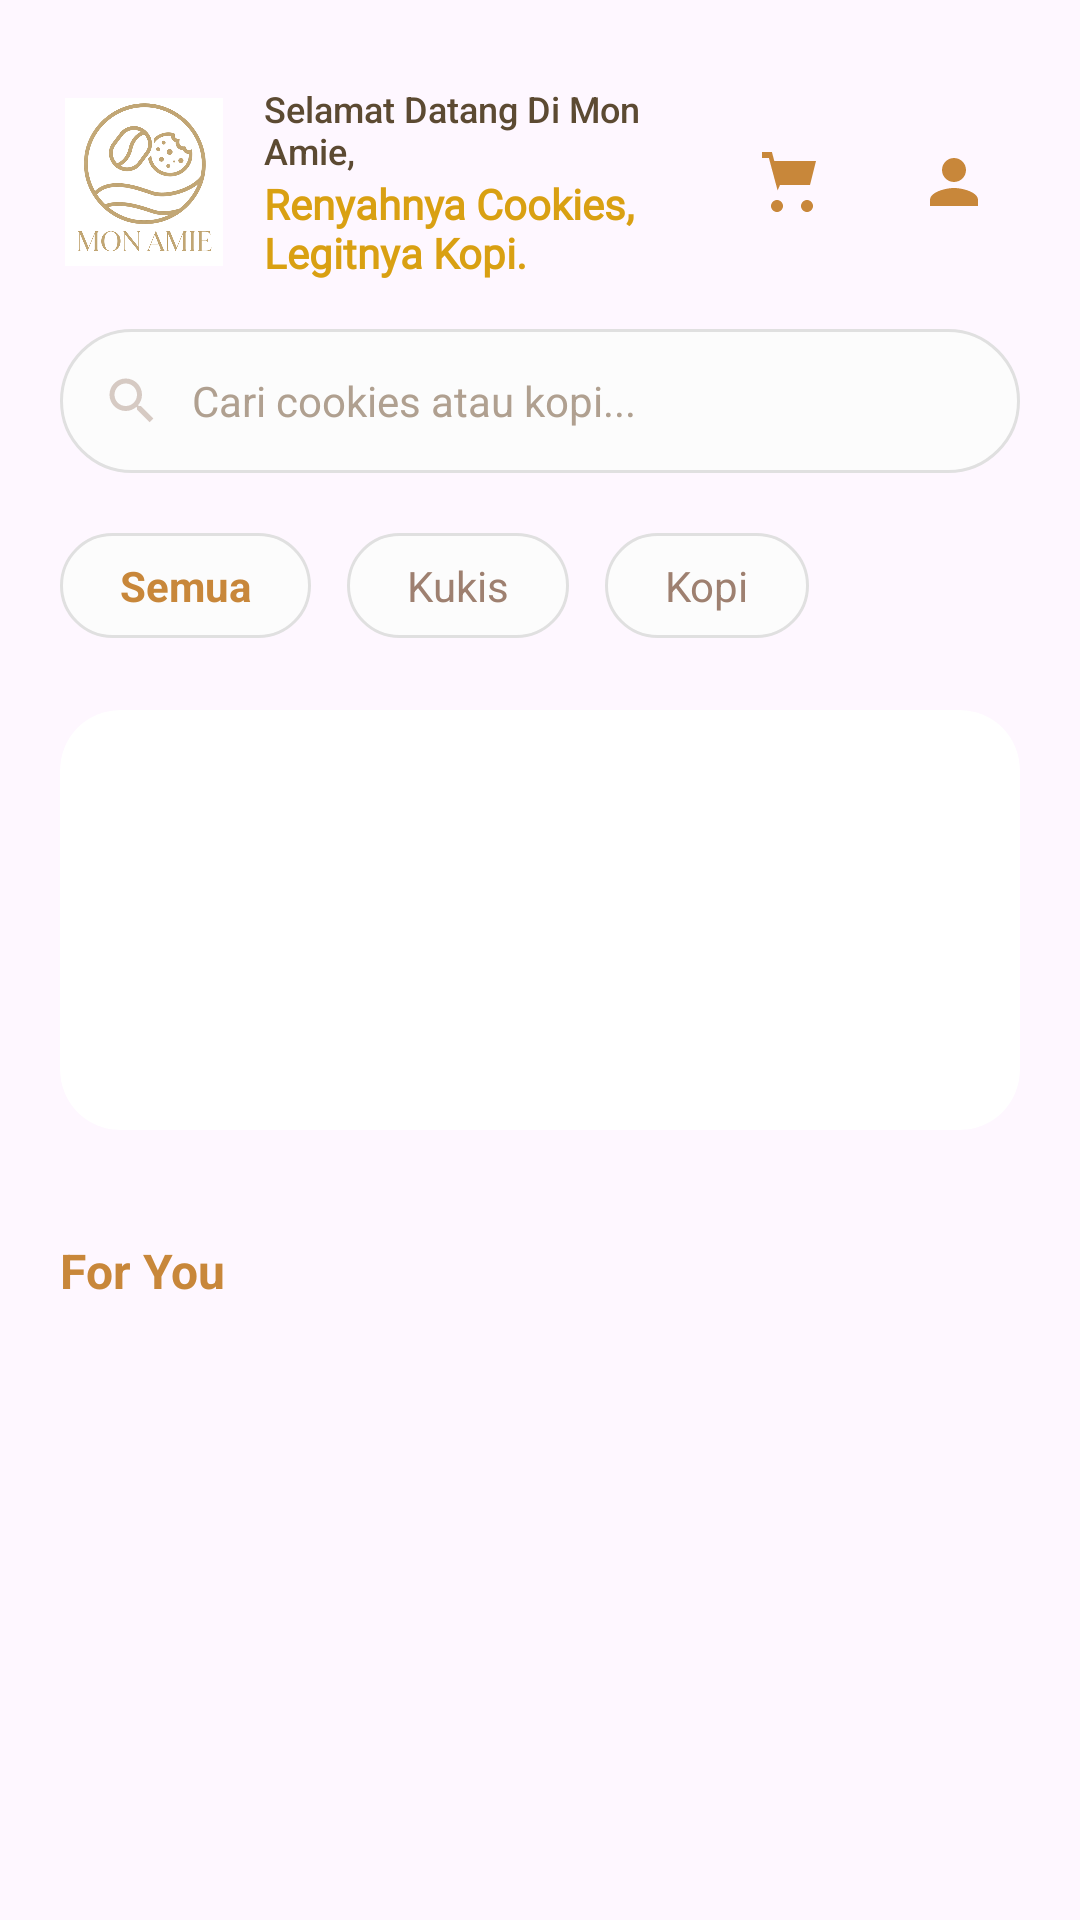

Locate icon controls on the screen. Image size 1080px×1920px, boxes as detection(x1, y1, x2, y2).
cart: detection(762, 152, 816, 212)
profile: detection(930, 158, 978, 206)
search: detection(109, 378, 153, 422)
